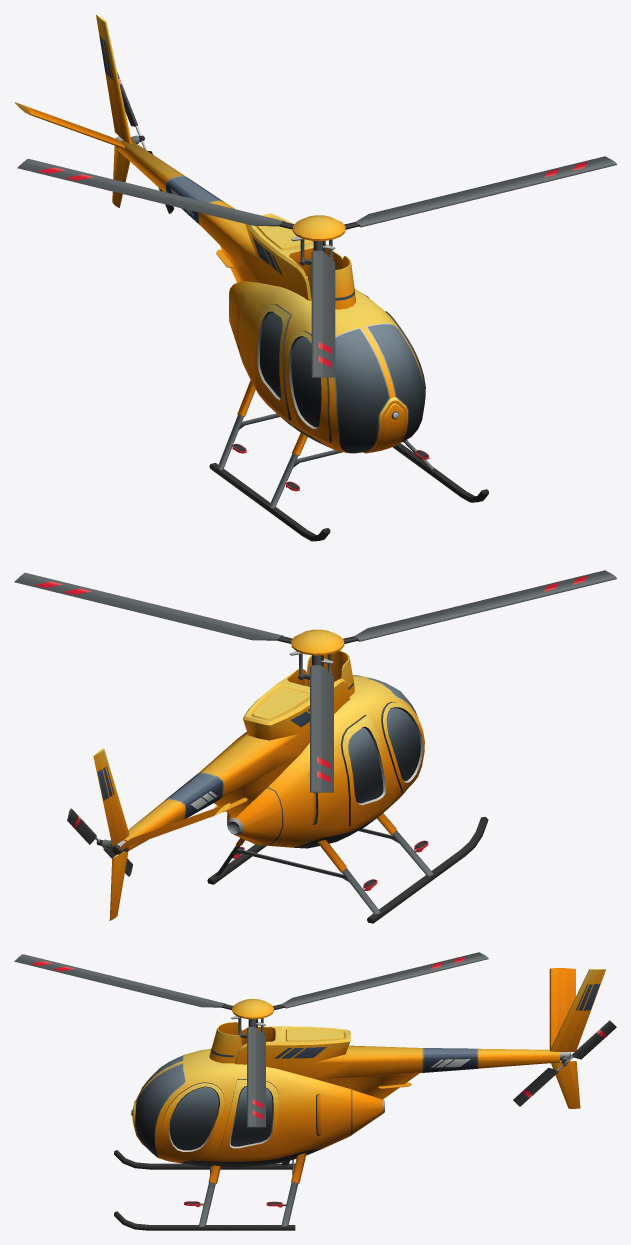
File: Helicopter_2A.fbx
The picture shows the model from 3 angles, top to bottom: view 1: azimuth 30°, elevation 25°; view 2: azimuth 150°, elevation 25°; view 3: azimuth 270°, elevation 25°; orthographic projection. The views are drawn at different scales.
Parts seen in each view (by area): view 1: Fuselage_Helicopter_2A, Main_Rotor_2A, Plane.003; view 2: Fuselage_Helicopter_2A, Main_Rotor_2A, Plane.003, Tail_Rotor_2A; view 3: Fuselage_Helicopter_2A, Main_Rotor_2A, Plane.003, Tail_Rotor_2A.
Boxes of the visible parts, bbox=[...] form: Fuselage_Helicopter_2A: bbox=[96, 14, 488, 541]; Main_Rotor_2A: bbox=[17, 156, 616, 377]; Plane.003: bbox=[14, 102, 125, 148]; Fuselage_Helicopter_2A: bbox=[93, 650, 488, 923]; Main_Rotor_2A: bbox=[14, 570, 616, 792]; Plane.003: bbox=[118, 803, 230, 850]; Tail_Rotor_2A: bbox=[67, 808, 132, 876]; Fuselage_Helicopter_2A: bbox=[114, 969, 605, 1230]; Main_Rotor_2A: bbox=[14, 952, 488, 1127]; Plane.003: bbox=[549, 968, 575, 1052]; Tail_Rotor_2A: bbox=[513, 1020, 616, 1106].
Size of the model in its own units: 6.37 by 3.9 by 9.27.
